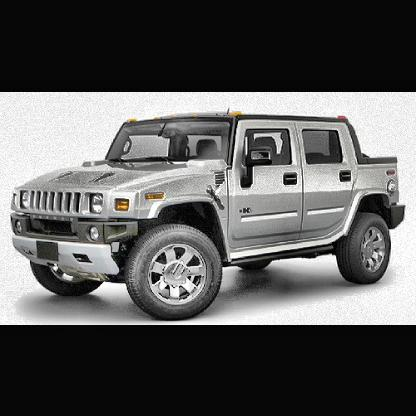HUMMER H2 SUT Crew Cab 2009: (10, 110, 407, 324)
